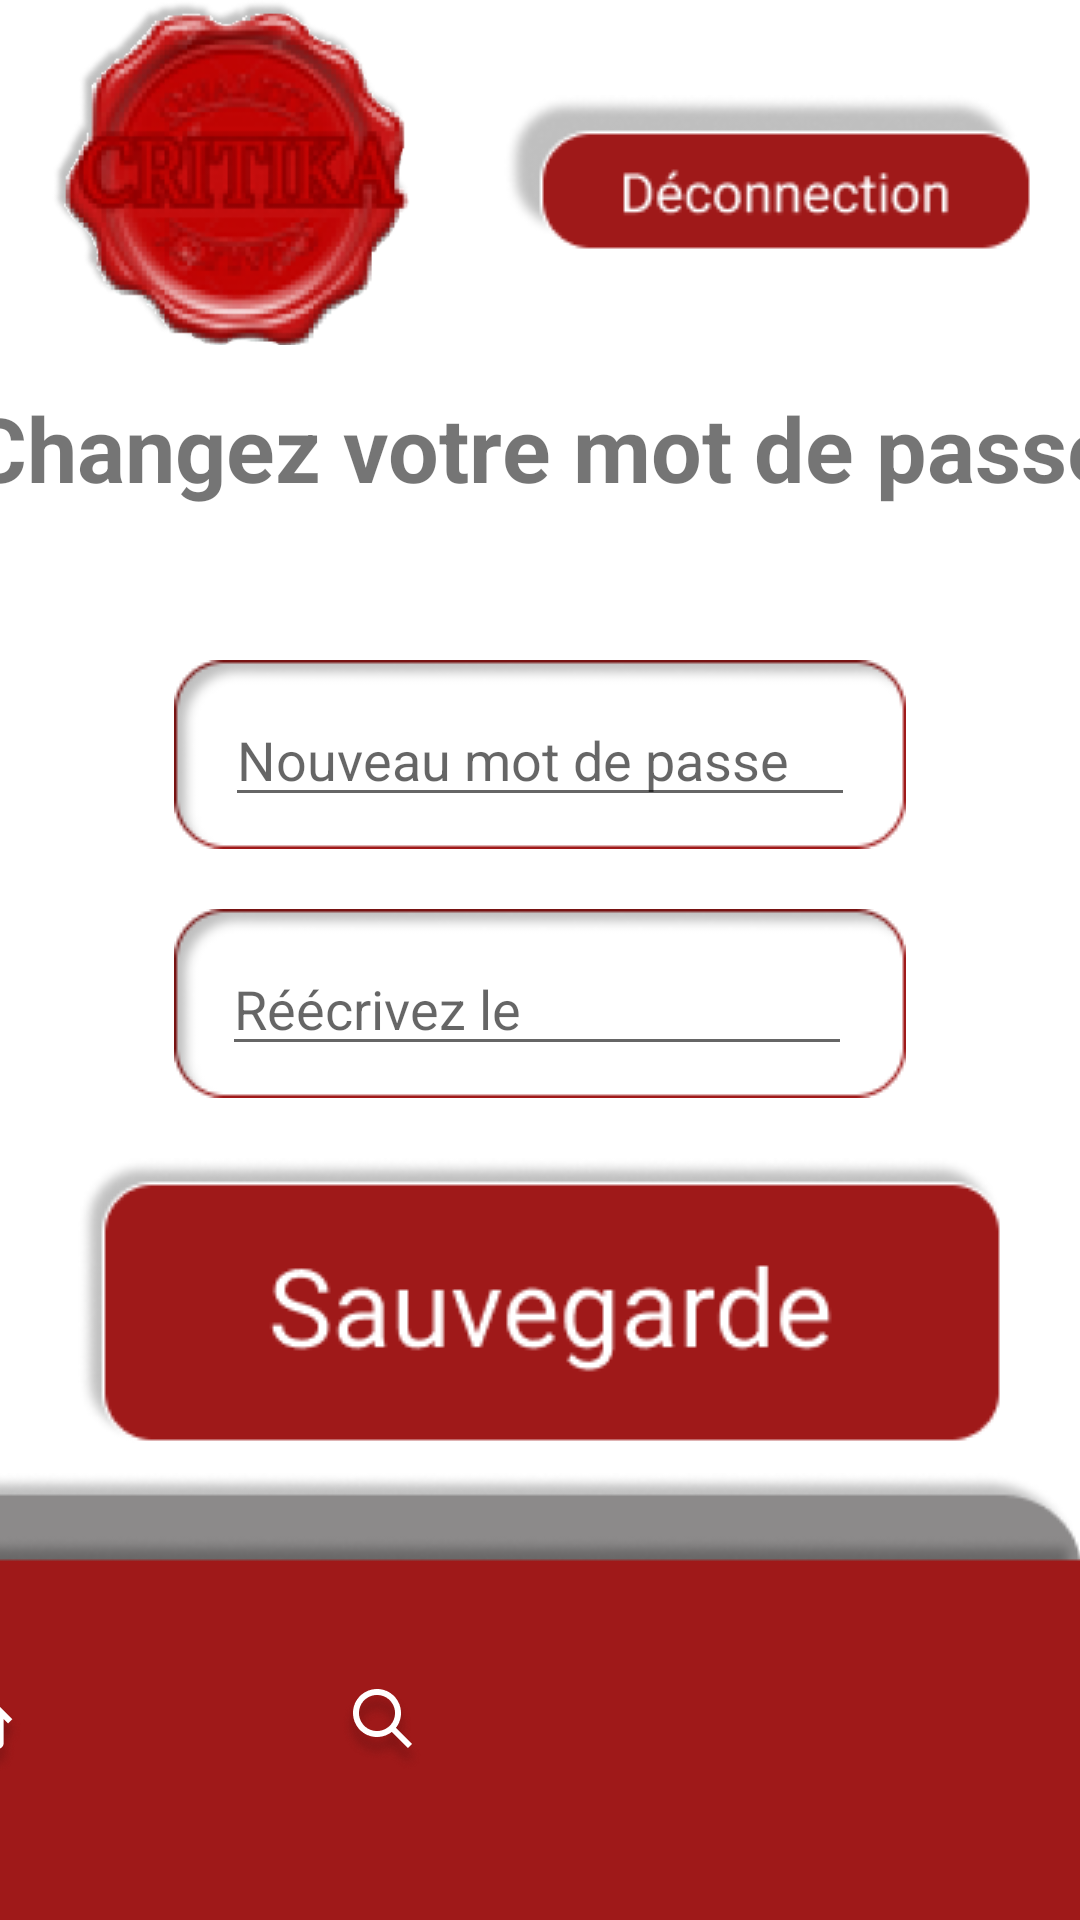

Icon click points for this 1080 × 1920 phone screenshot, format (x=x, y=y):
search: (x=382, y=1718)
